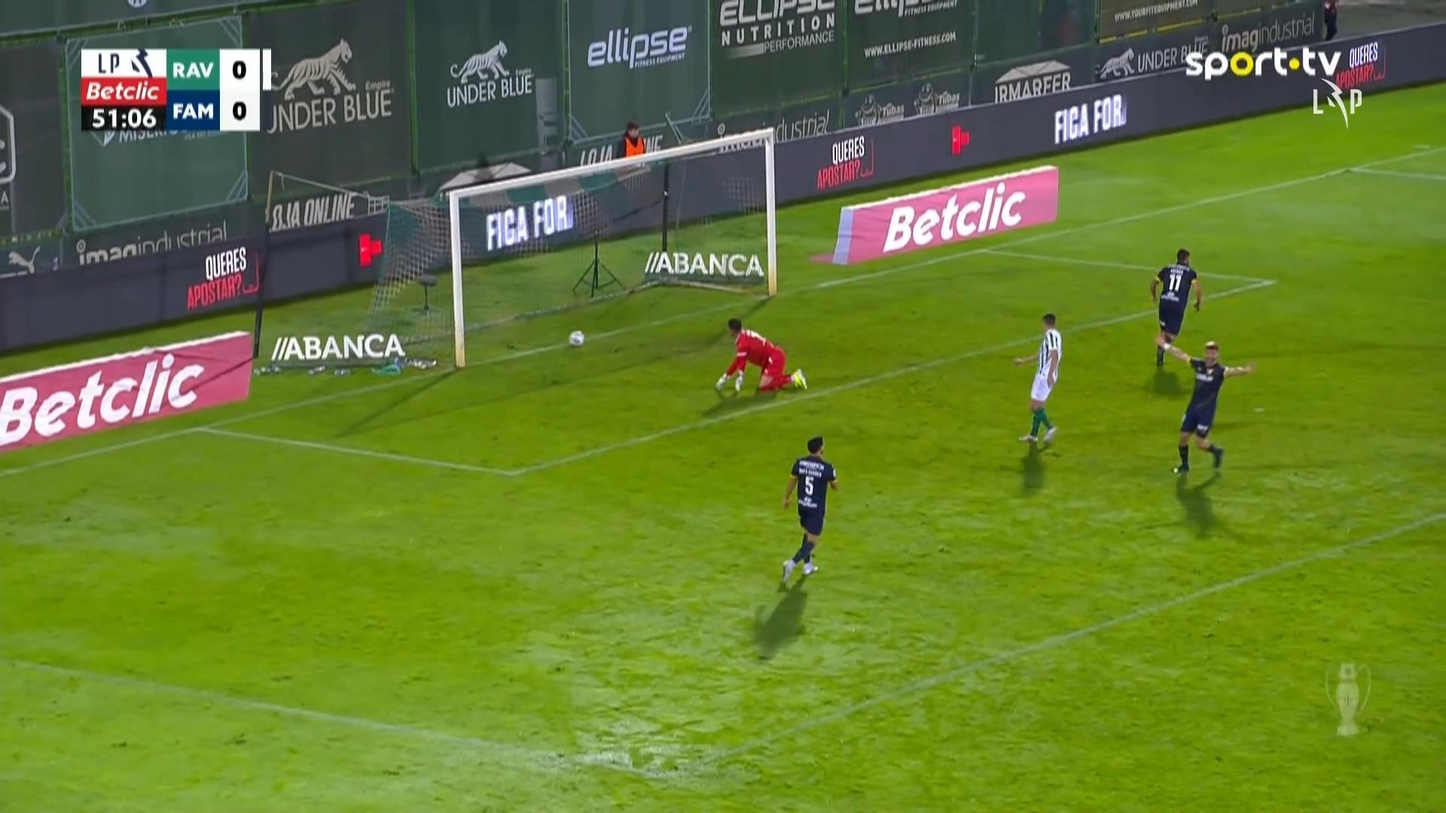ball: (568, 330, 584, 346)
goalkeeper: (713, 316, 807, 398)
player: (1158, 337, 1254, 474), (779, 435, 839, 587), (1011, 312, 1062, 449), (1149, 247, 1202, 367)
